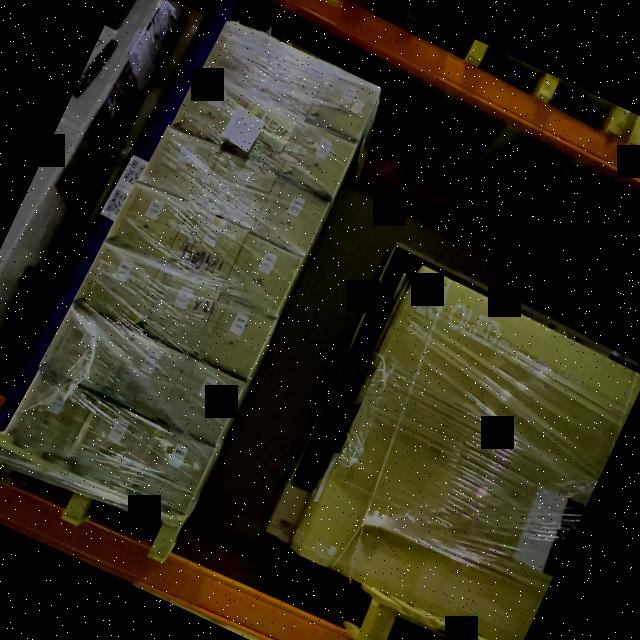box: (292, 266, 640, 640), (66, 399, 154, 492), (7, 371, 93, 465), (42, 304, 130, 393), (102, 332, 185, 420), (134, 265, 218, 351), (76, 242, 159, 327), (192, 294, 274, 380), (130, 427, 212, 512), (161, 360, 242, 444), (110, 184, 188, 264), (168, 207, 246, 286), (223, 237, 300, 316), (252, 178, 328, 256), (143, 128, 220, 204), (199, 152, 276, 228), (203, 18, 278, 94), (228, 98, 302, 173), (307, 66, 380, 142), (256, 44, 328, 117), (176, 73, 248, 145), (282, 125, 354, 197)
